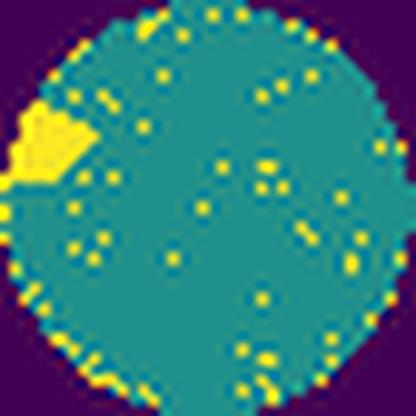Edge-Loc: (0, 94, 103, 184)
